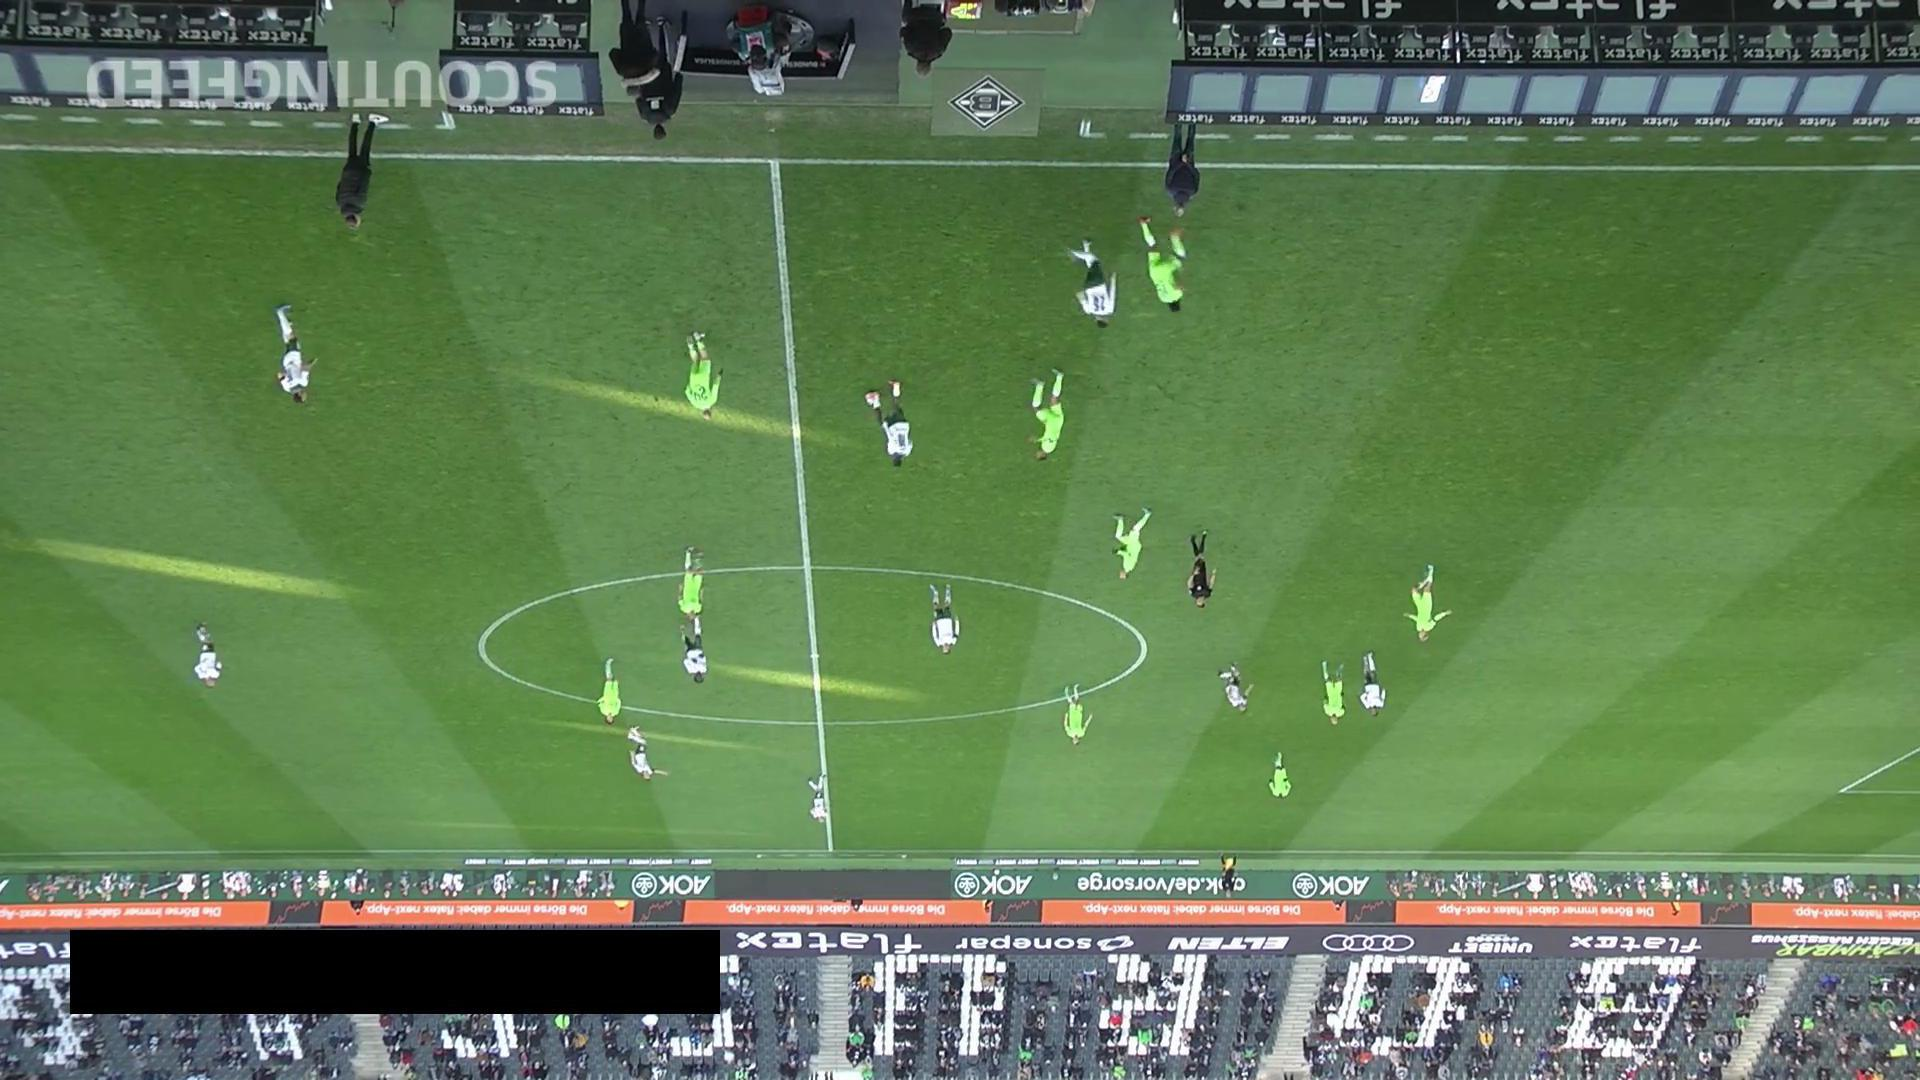ball: (864, 392, 881, 409)
player: (1138, 215, 1186, 313), (274, 303, 319, 406), (1071, 240, 1118, 330), (868, 379, 914, 469), (1401, 564, 1453, 643), (684, 331, 724, 422), (1028, 368, 1066, 463), (1111, 506, 1153, 581), (928, 582, 960, 656), (676, 547, 705, 624), (1358, 651, 1387, 719), (193, 622, 222, 690), (1063, 683, 1093, 747), (628, 726, 661, 782), (681, 614, 707, 684), (1321, 660, 1347, 727), (1220, 663, 1254, 714), (597, 657, 622, 726), (1267, 751, 1292, 802), (807, 775, 827, 824)
referee: (1186, 532, 1217, 610), (1219, 854, 1237, 897)
